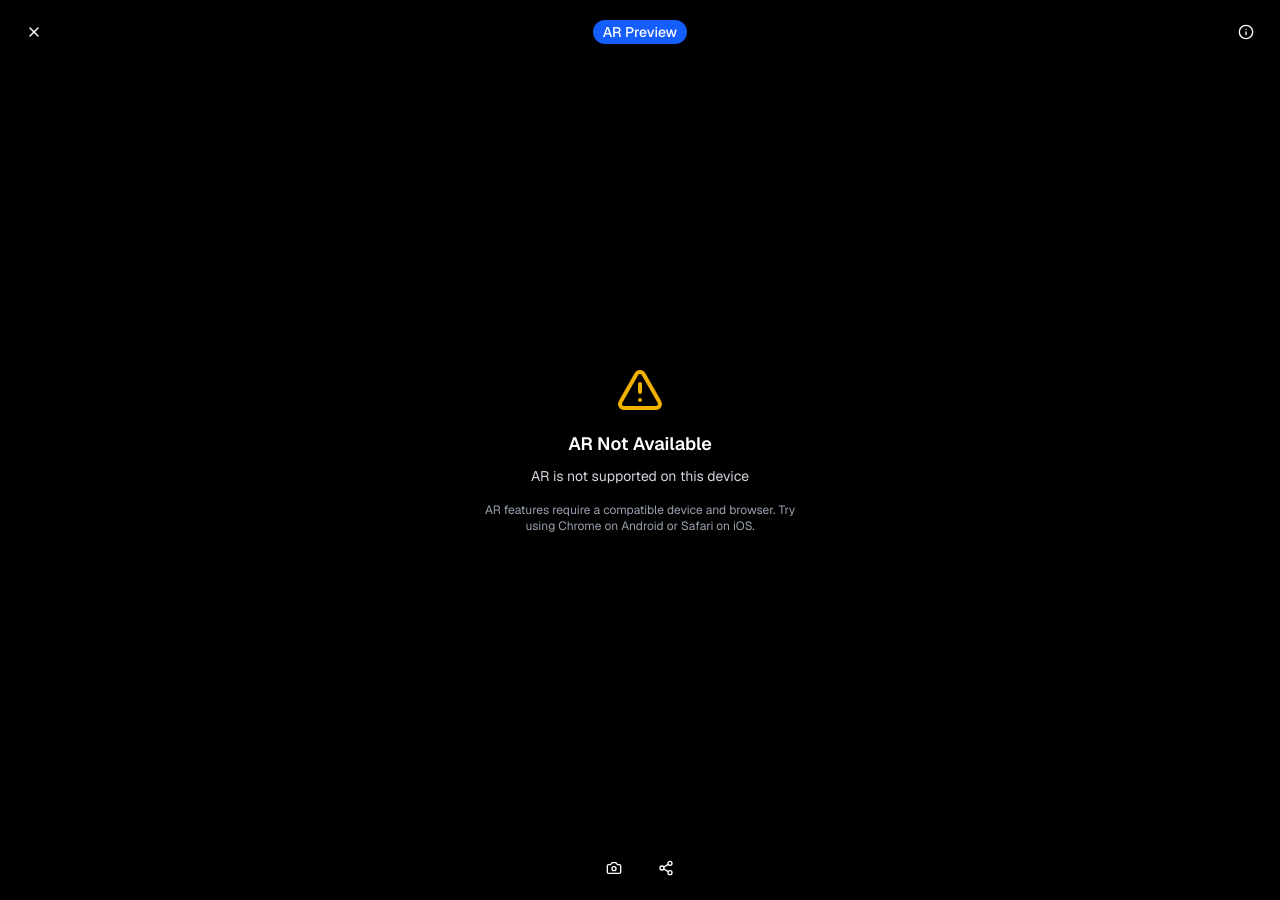
Test case: ARPropertyPreview › toggles the info panel when info button is clicked
expect the text "Property Type" is not shown: met
Click the button named "property info".
click(1246, 32)  # box [1228, 16, 1264, 48]
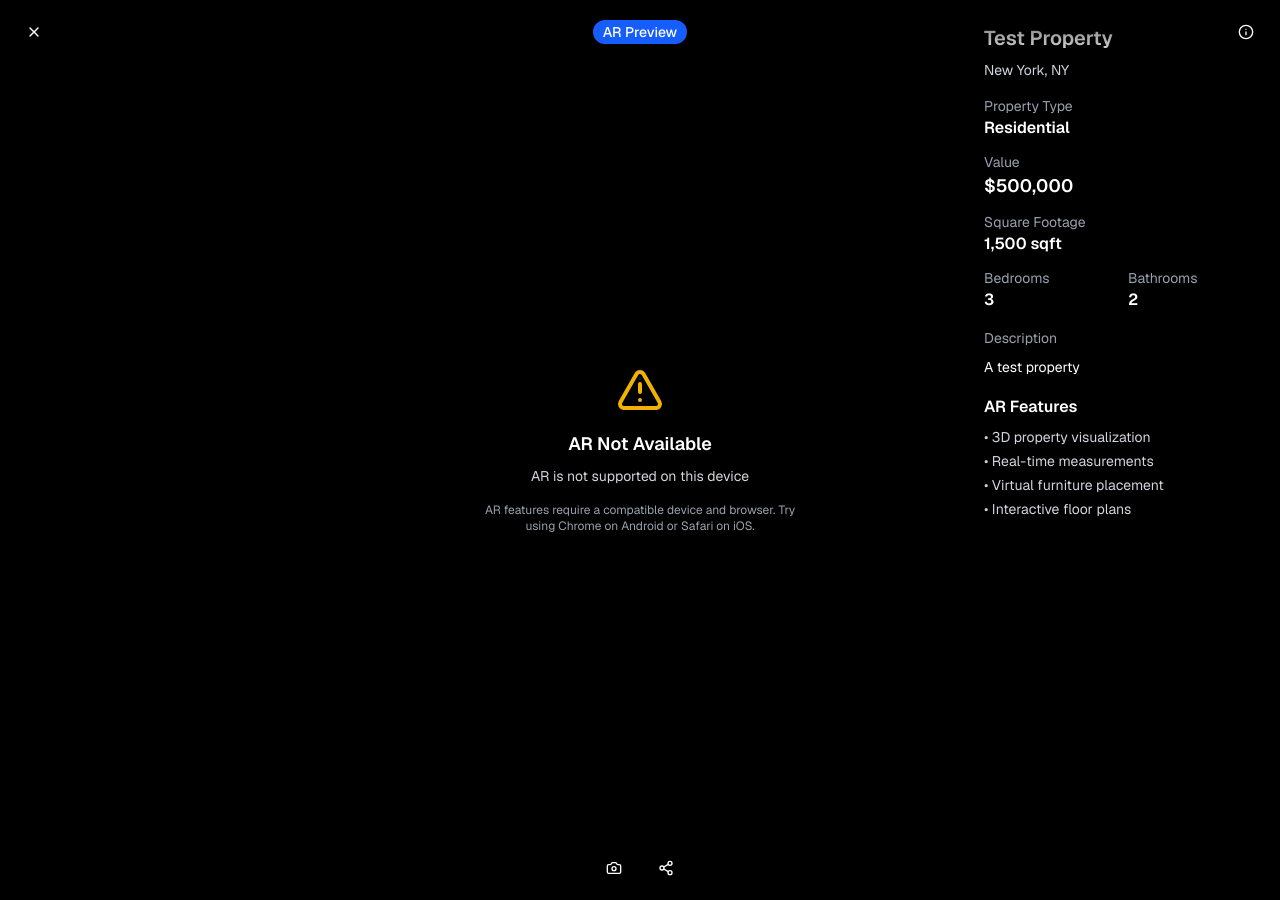
expect the text "Property Type" is shown: met, box [984, 97, 1073, 115]
expect the text "Residential" is shown: met, box [984, 117, 1070, 138]
